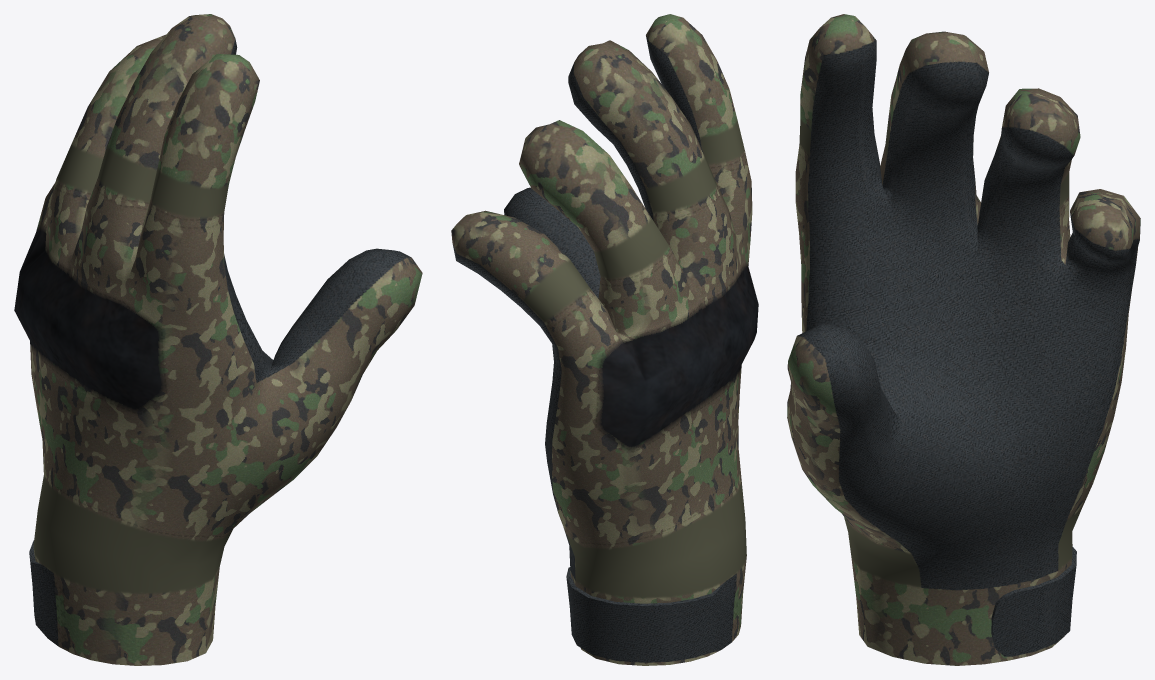
The model's file is FirstGlove.fbx.
3 views of the same model, side by side, from view 1: azimuth 30°, elevation 25°; view 2: azimuth 150°, elevation 25°; view 3: azimuth 270°, elevation 25° (orthographic). The views are drawn at different scales.
Parts seen in each view (by area): view 1: Main_low; view 2: Main_low; view 3: Main_low.
Part boxes in pixels (x1,y1,x2,y2): Main_low: (14, 14, 422, 665); Main_low: (451, 14, 758, 665); Main_low: (787, 14, 1140, 665).
Bounding box in the file's own units: 0.415 × 0.7836 × 0.3958.
Materials: 1 (1 with a texture image).
